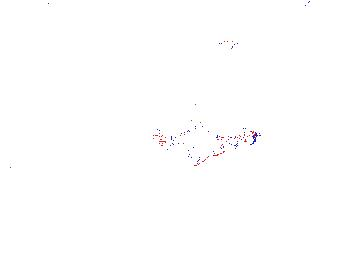red belly glassfish: (217, 36, 254, 51)
redtail glassfish: (153, 121, 263, 160)
